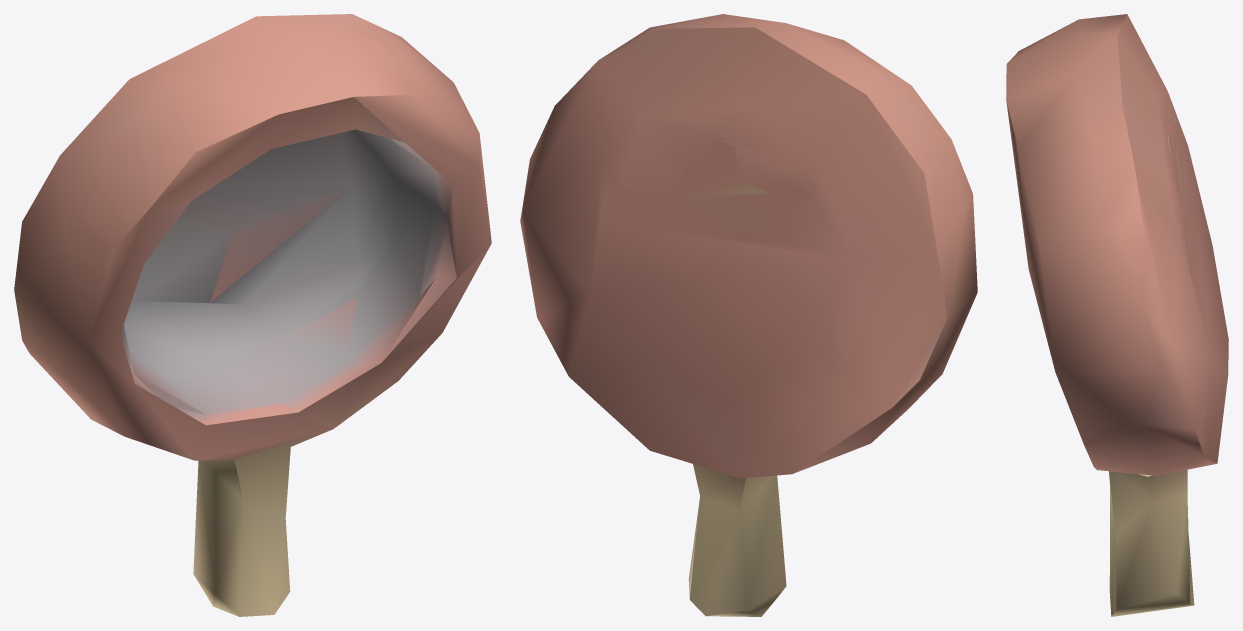
The model's file is tool_pan_low.glb.
3 renders of one model, left to right at view 1: azimuth 30°, elevation 25°; view 2: azimuth 150°, elevation 25°; view 3: azimuth 270°, elevation 25°, orthographic. The views are drawn at different scales.
Visible parts, largest first — view 1: tripo_node_fc5ce537-d232-4056-8d1b-163294a66be2.001; view 2: tripo_node_fc5ce537-d232-4056-8d1b-163294a66be2.001; view 3: tripo_node_fc5ce537-d232-4056-8d1b-163294a66be2.001.
Boxes of the visible parts, <box> form: tripo_node_fc5ce537-d232-4056-8d1b-163294a66be2.001: <box>14,14,491,616</box>; tripo_node_fc5ce537-d232-4056-8d1b-163294a66be2.001: <box>520,14,977,616</box>; tripo_node_fc5ce537-d232-4056-8d1b-163294a66be2.001: <box>1006,14,1228,616</box>.
Bounding box in the file's own units: 0.3847 × 0.4975 × 0.1748.
